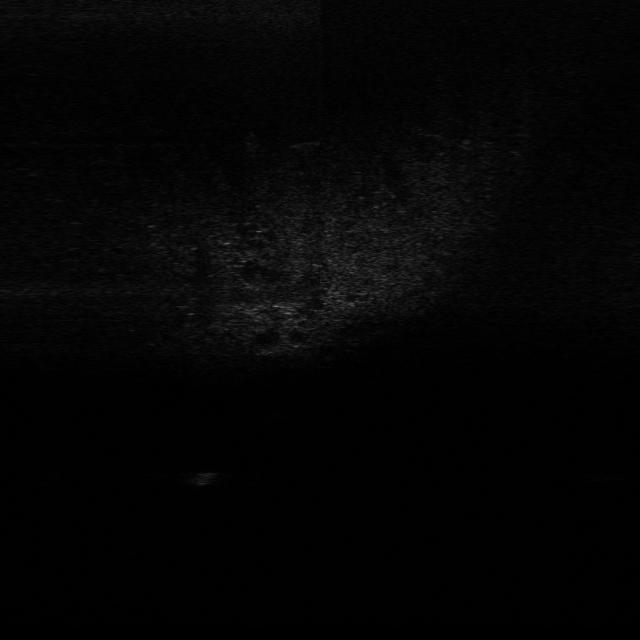cylinder: (189, 464, 217, 490)
